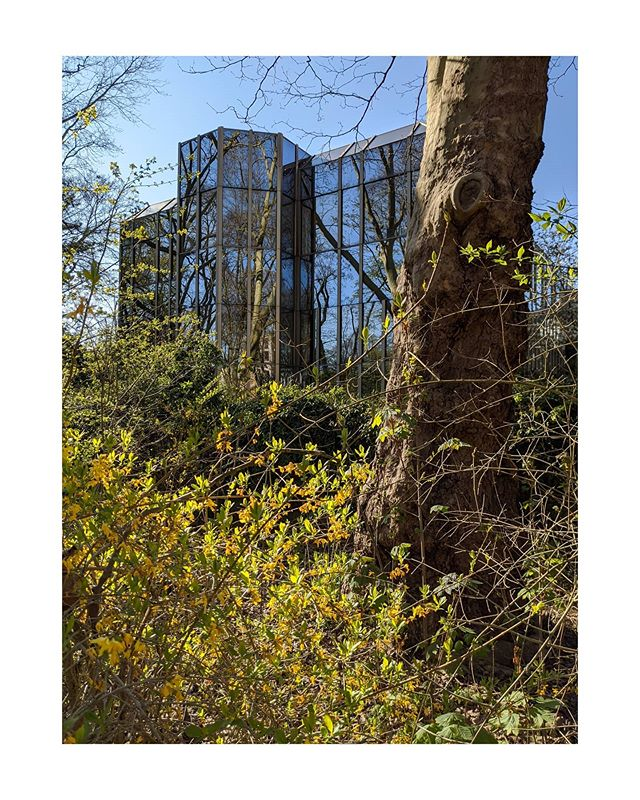building: (120, 116, 432, 380)
tree: (343, 58, 576, 622)
vegetation: (61, 336, 381, 737)
